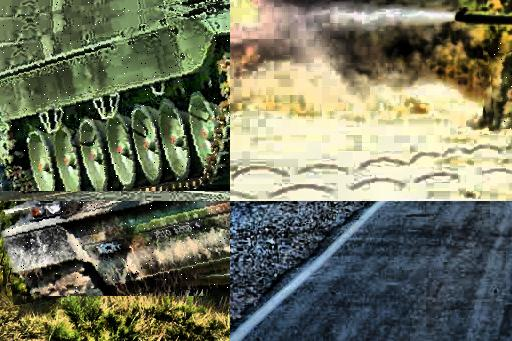tanks: (1, 1, 231, 191), (3, 202, 231, 297), (494, 56, 512, 130), (457, 12, 512, 25)
